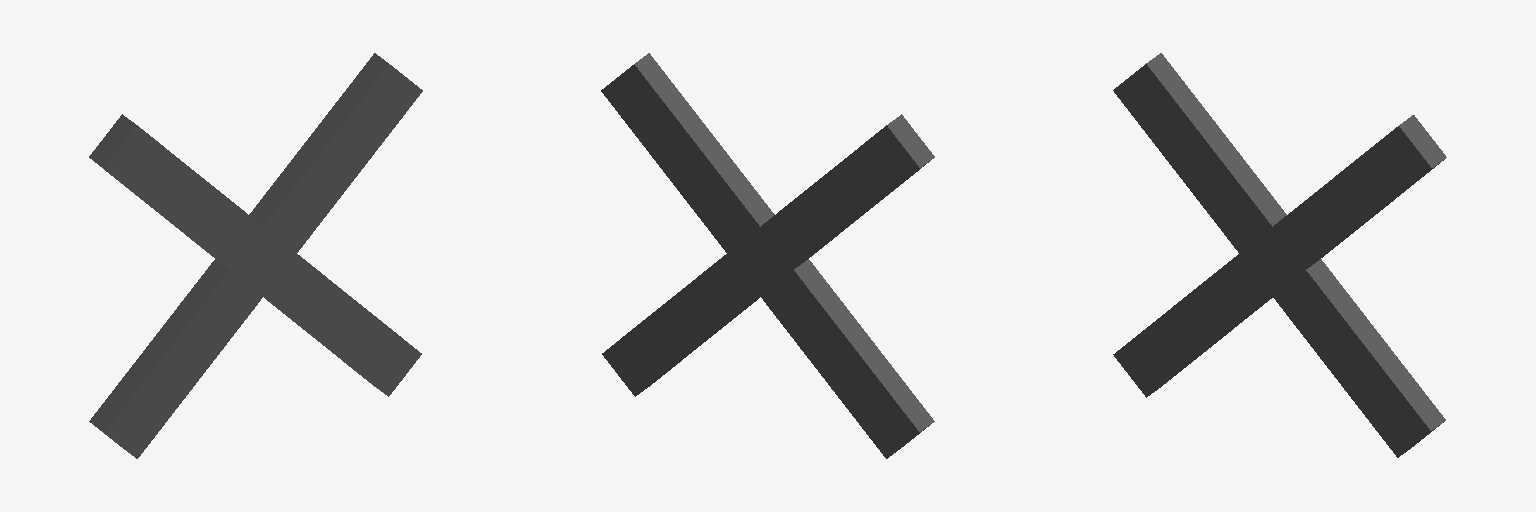
Rendered from Cancel.obj.
3 renders of one model, left to right at view 1: azimuth 30°, elevation 25°; view 2: azimuth 150°, elevation 25°; view 3: azimuth 330°, elevation 25°, orthographic.
Visible parts, largest first — view 1: Cancel_X; view 2: Cancel_X; view 3: Cancel_X.
Part boxes in pixels (bbox=[...]): Cancel_X: bbox=[89, 53, 422, 458]; Cancel_X: bbox=[601, 53, 934, 458]; Cancel_X: bbox=[1113, 53, 1446, 457].
Size of the model in its own units: 0.0791 by 0.0791 by 0.0065.